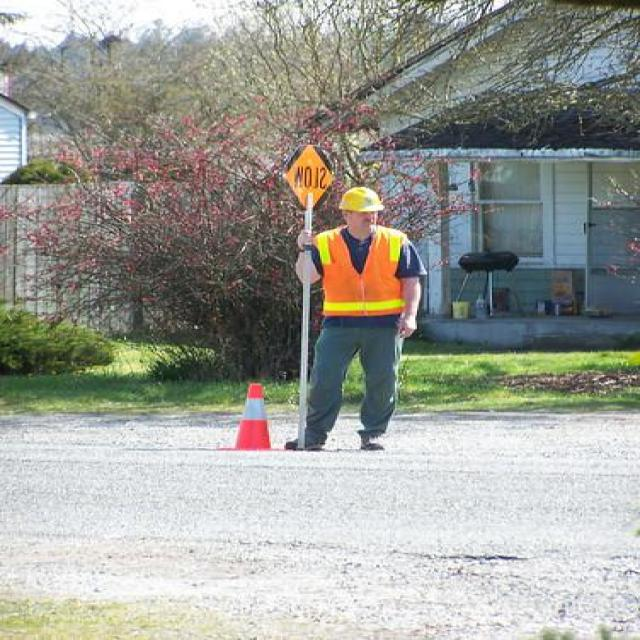Reflective-Jacket: (308, 226, 412, 324)
Safety-Helmet: (335, 186, 385, 216)
